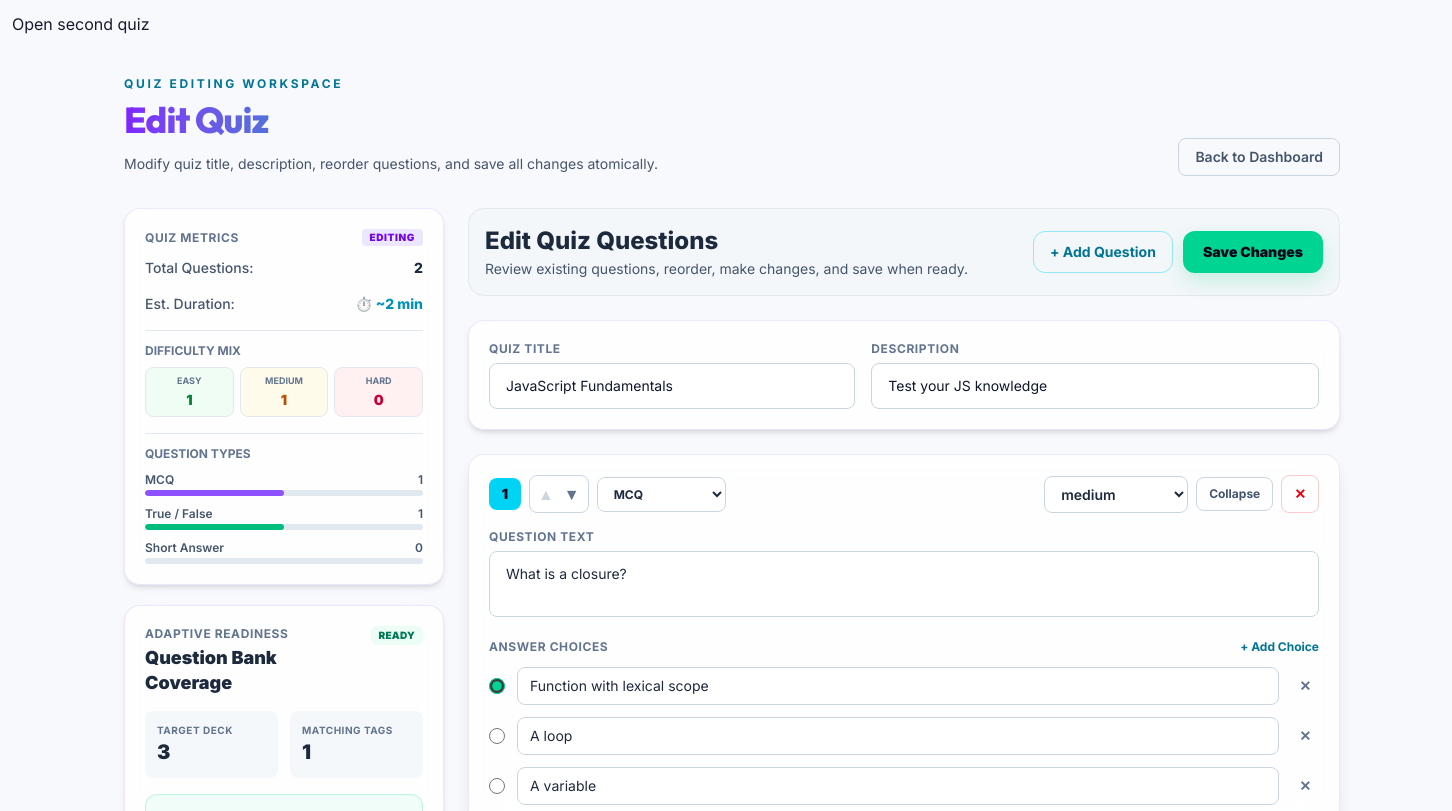
Scenario: QuizEdit Component › clears stale adaptive readiness when the readiness request returns a non-success response
Expected: the heading "Question Bank Coverage" is shown, [145,647,277,693]
Click the link "Open second quiz" at point(81, 24), box [12,14,150,34]
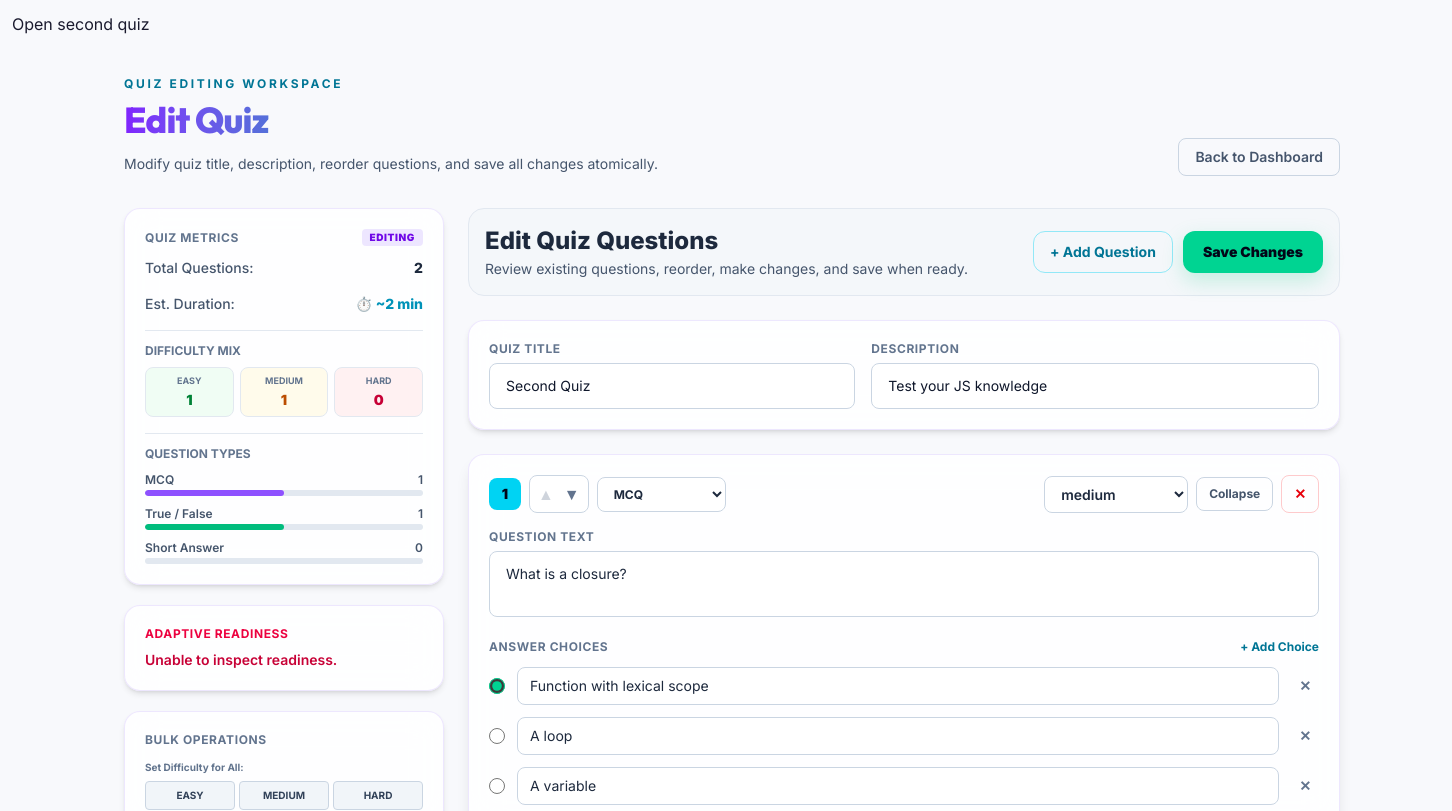
Expected: the field showing "Second Quiz" is shown, [489,363,855,409]
Expected: the heading "Question Bank Coverage" is gone
Expected: the text "Unable to inspect readiness." is shown, [145,651,337,668]
